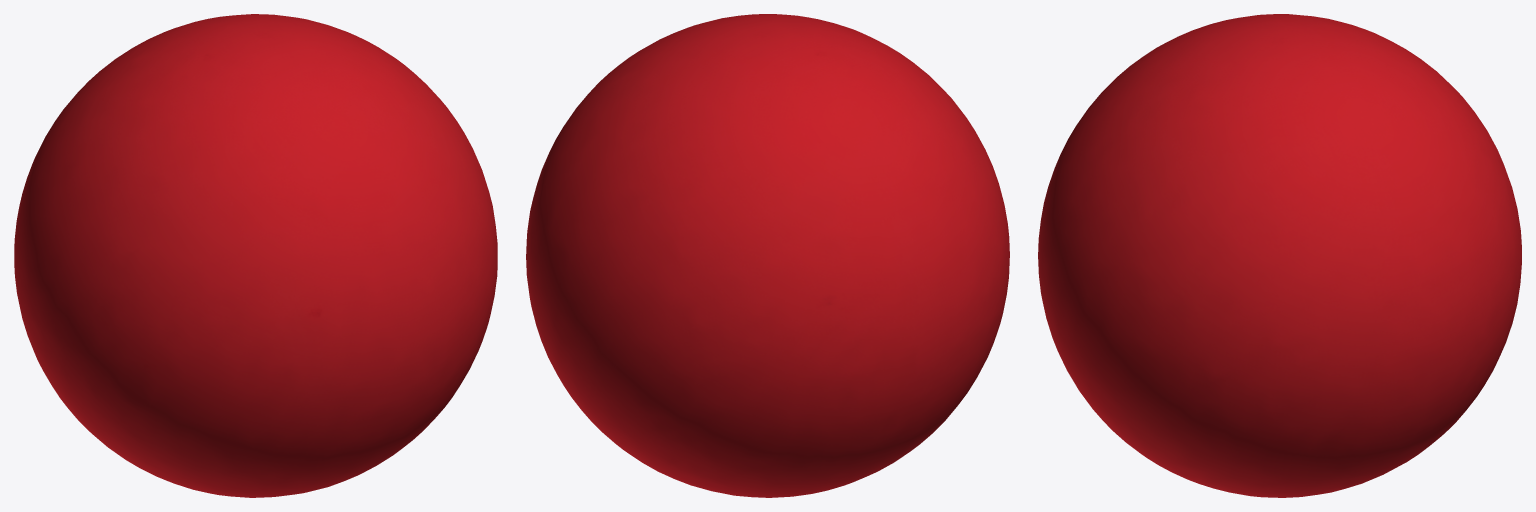
File: special_StressBall.glb
The picture shows the model from 3 angles, left to right: view 1: azimuth 30°, elevation 25°; view 2: azimuth 150°, elevation 25°; view 3: azimuth 270°, elevation 25°; orthographic projection.
Parts seen in each view (by area): view 1: world; view 2: world; view 3: world.
Boxes of the visible parts, <box> form: world: <box>14,14,497,497</box>; world: <box>526,14,1009,497</box>; world: <box>1038,14,1521,497</box>.
Bounding box in the file's own units: 1 × 1 × 1.
1 material, 1 textured.
